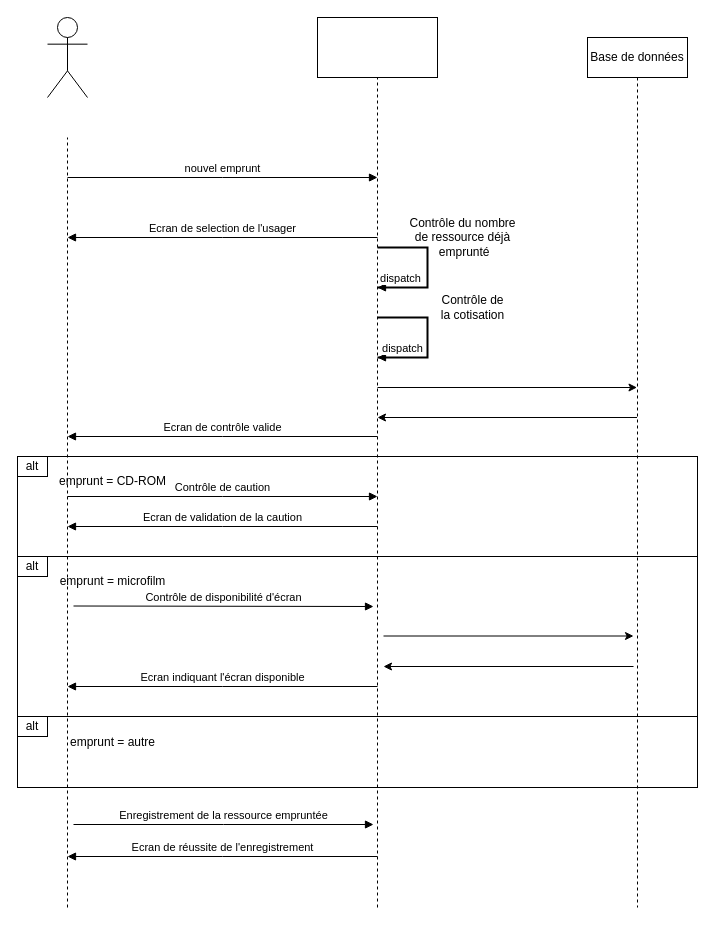
This 715x926 diagram has some shape labels left out. The centre of each missing label's shape, as x and y in pixels:
:système: (x=377, y=47)
Employe: (x=67, y=57)
